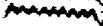Water: (3, 1, 99, 23)
